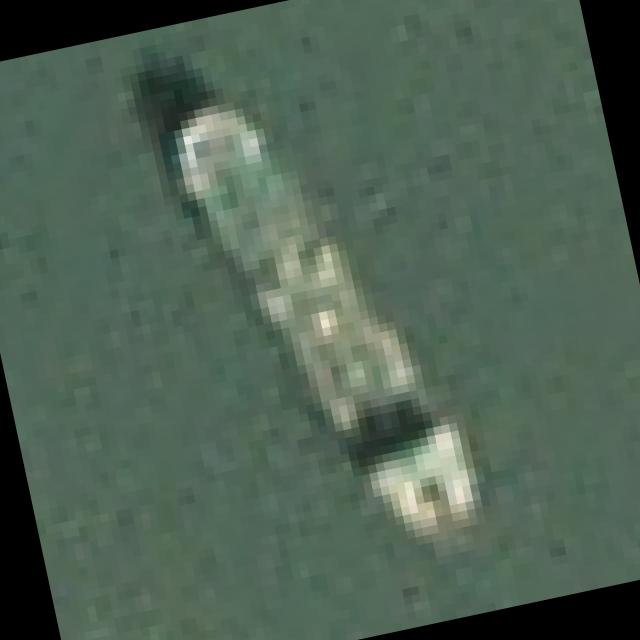ship: (101, 28, 558, 616)
